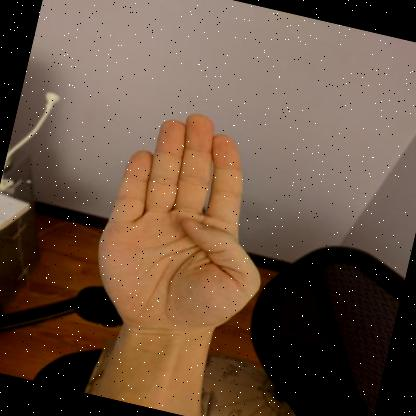B: (98, 114, 261, 357)
